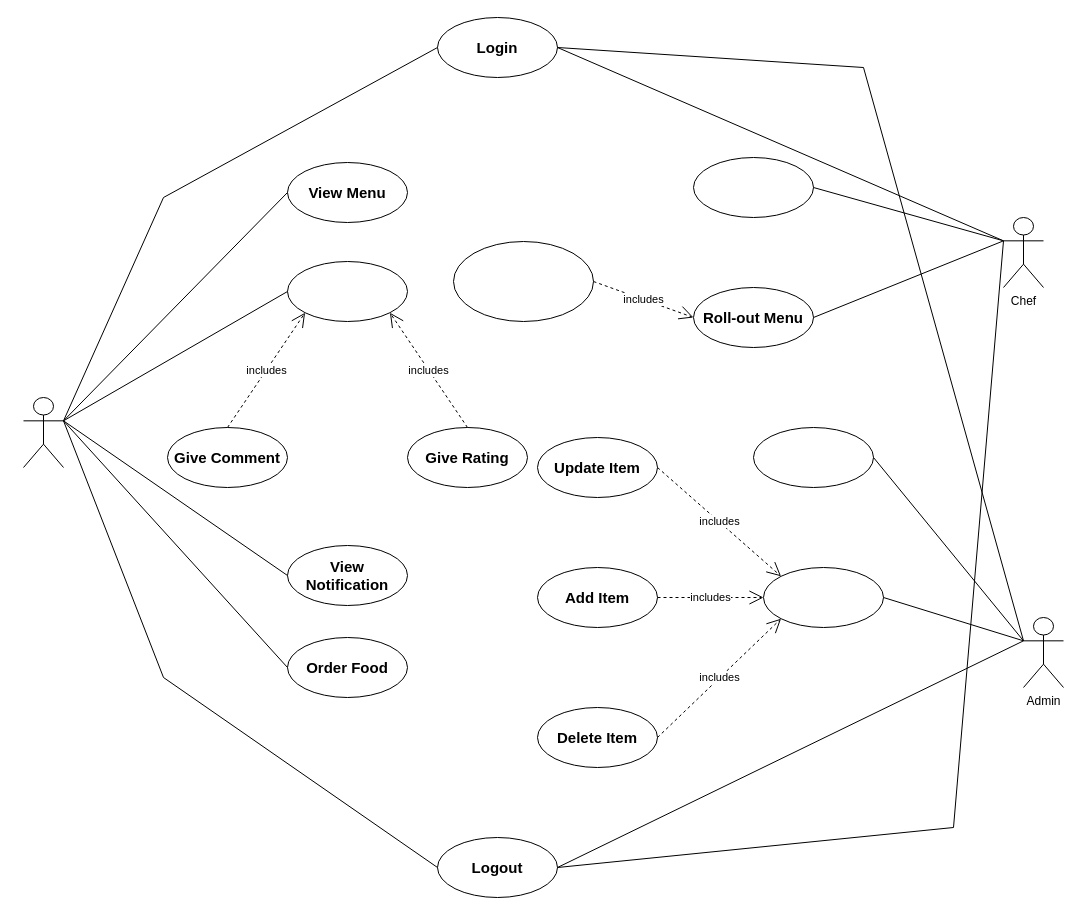
Some shapes in this 1081 by 915 pixel diagram are drawn without their labels. The shapes that lost their labels are listed below. From the top down, each one's centre as x and y in pixels, then its label:
At (753,187): "View Report".
At (347,291): "Give feedback".
At (523,281): "Get Recommendation".
At (43,432): "Employee".
At (813,457): "View Feedback".
At (823,597): "Manage Menu".
